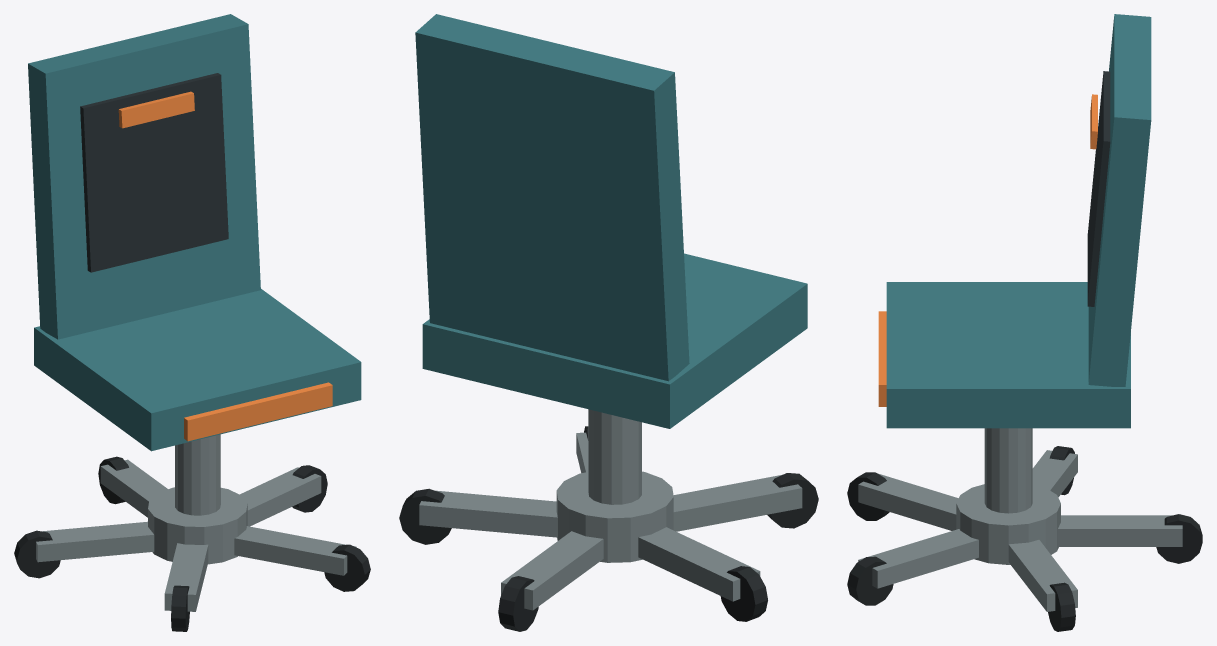
Rendered from chair.glb.
The picture shows the model from 3 angles, left to right: view 1: azimuth 30°, elevation 25°; view 2: azimuth 150°, elevation 25°; view 3: azimuth 270°, elevation 25°; orthographic projection. The views are drawn at different scales.
Parts seen in each view (by area): view 1: Chair back, Chair seat, Back inset, Chair hub, Seat orange edge, Chair base arm 5, Chair base arm 3, Chair lift, Chair base arm 2, Chair base arm 4, Chair base arm 1, Back safety marker (+5 smaller); view 2: Chair back, Chair seat, Chair hub, Chair base arm 2, Chair lift, Chair base arm 4, Chair base arm 5, Chair base arm 1, Chair caster 5, Chair caster 2, Chair caster 1, Chair caster 4; view 3: Chair seat, Chair back, Chair hub, Chair lift, Chair base arm 1, Chair base arm 3, Chair base arm 4, Back inset, Chair base arm 2, Chair base arm 5, Chair caster 3, Chair caster 1 (+3 smaller).
Boxes of the visible parts, box(x1,y1,x2,y2) form: Chair back: box(28, 14, 260, 339); Chair seat: box(34, 289, 361, 451); Back inset: box(80, 73, 228, 272); Chair hub: box(148, 487, 247, 564); Seat orange edge: box(184, 382, 332, 441); Chair base arm 5: box(36, 521, 154, 562); Chair base arm 3: box(234, 526, 356, 575); Chair lift: box(175, 434, 220, 515); Chair base arm 2: box(240, 467, 321, 526); Chair base arm 4: box(164, 543, 208, 611); Chair base arm 1: box(100, 459, 167, 517); Back safety marker: box(118, 91, 194, 128); Chair back: box(415, 14, 689, 381); Chair seat: box(422, 253, 807, 428); Chair hub: box(556, 471, 673, 562); Chair base arm 2: box(419, 490, 557, 537); Chair lift: box(588, 409, 641, 504); Chair base arm 4: box(673, 474, 802, 531); Chair base arm 5: box(638, 527, 760, 601); Chair base arm 1: box(501, 531, 603, 610); Chair caster 5: box(720, 566, 767, 621); Chair caster 2: box(399, 488, 451, 544); Chair caster 1: box(498, 576, 538, 631); Chair caster 4: box(767, 473, 818, 528); Chair seat: box(886, 282, 1130, 428); Chair back: box(1088, 14, 1151, 386); Chair hub: box(956, 484, 1060, 564); Chair lift: box(984, 428, 1032, 513); Chair base arm 1: box(1057, 515, 1182, 546); Chair base arm 3: box(858, 529, 978, 588); Chair base arm 4: box(858, 473, 958, 530); Back inset: box(1087, 71, 1110, 306); Chair base arm 2: box(1008, 540, 1077, 611); Chair base arm 5: box(1032, 450, 1077, 497); Chair caster 3: box(847, 556, 893, 605); Chair caster 1: box(1156, 514, 1202, 563).
Size of the model in its own units: 0.8573 by 1.25 by 0.8153.
